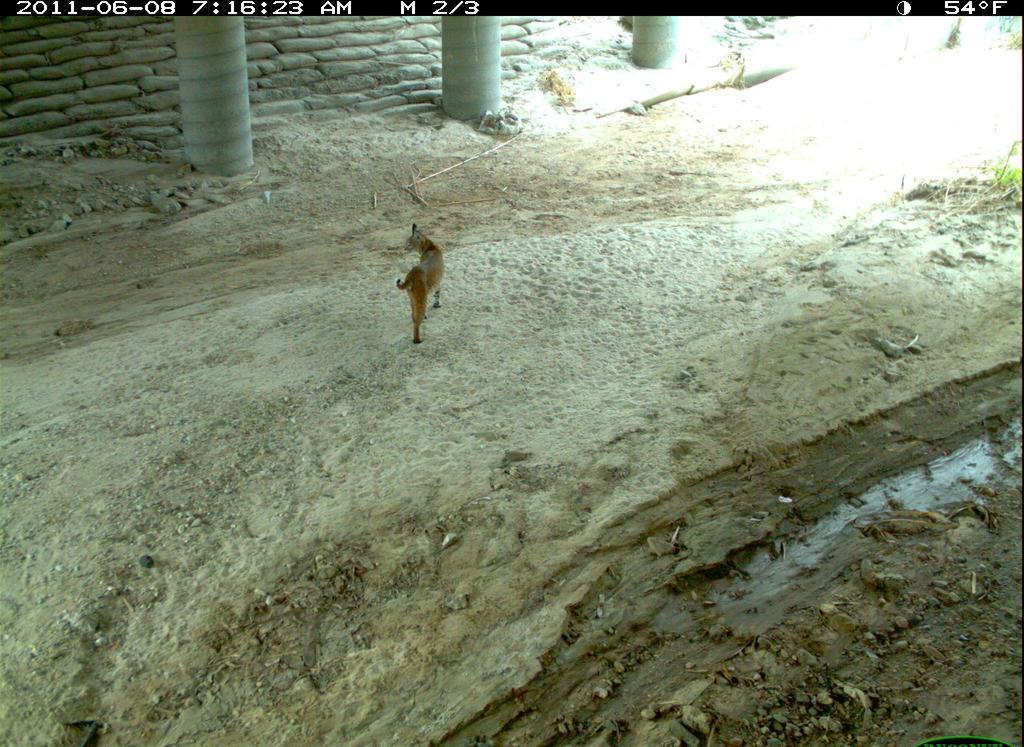bobcat: (388, 218, 452, 347)
